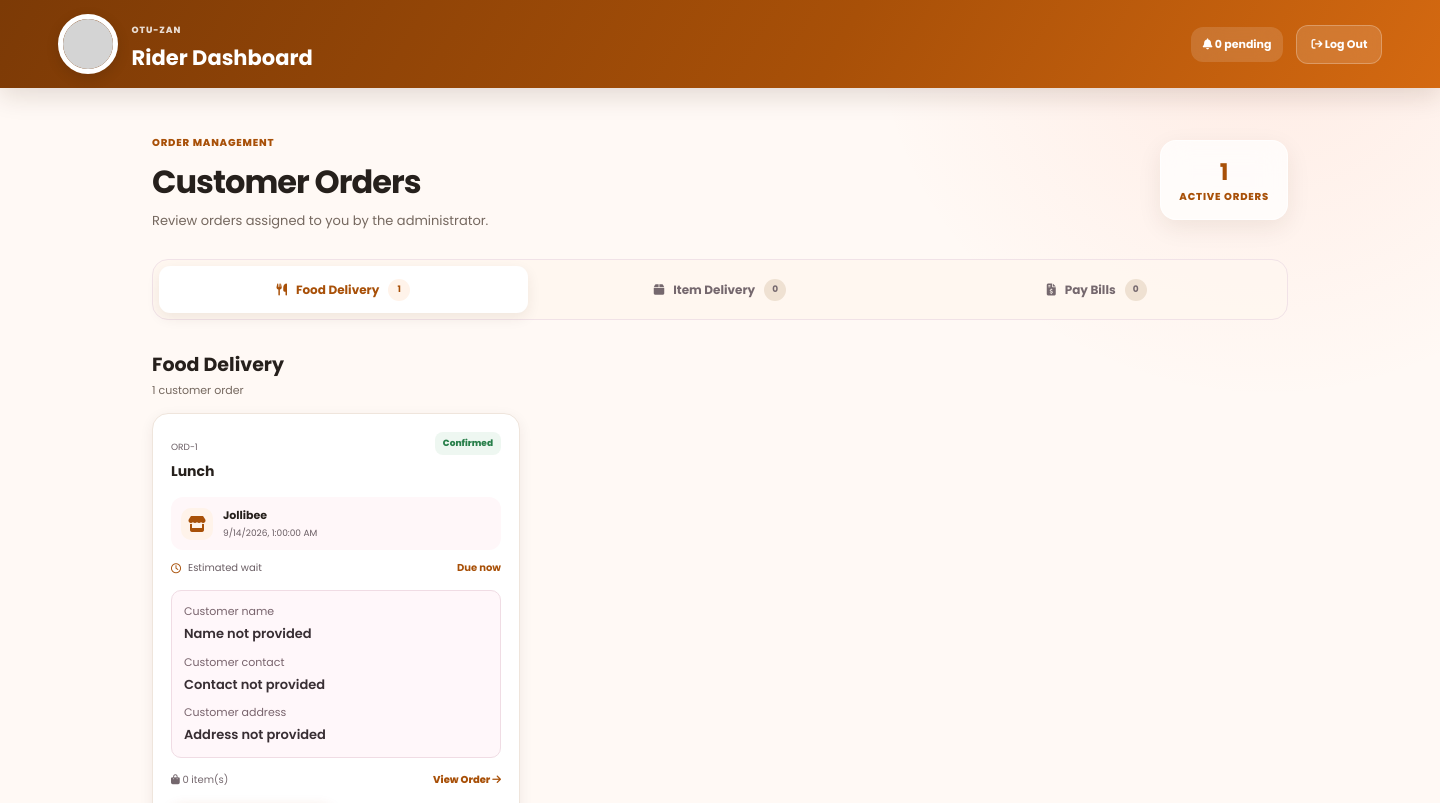
Test case: Escape closes the rider order-details window
The width and height of the screenshot is (1440, 803).
Click the button "View Order".
click(467, 780)  # box top-left (433, 772), bottom-right (501, 788)
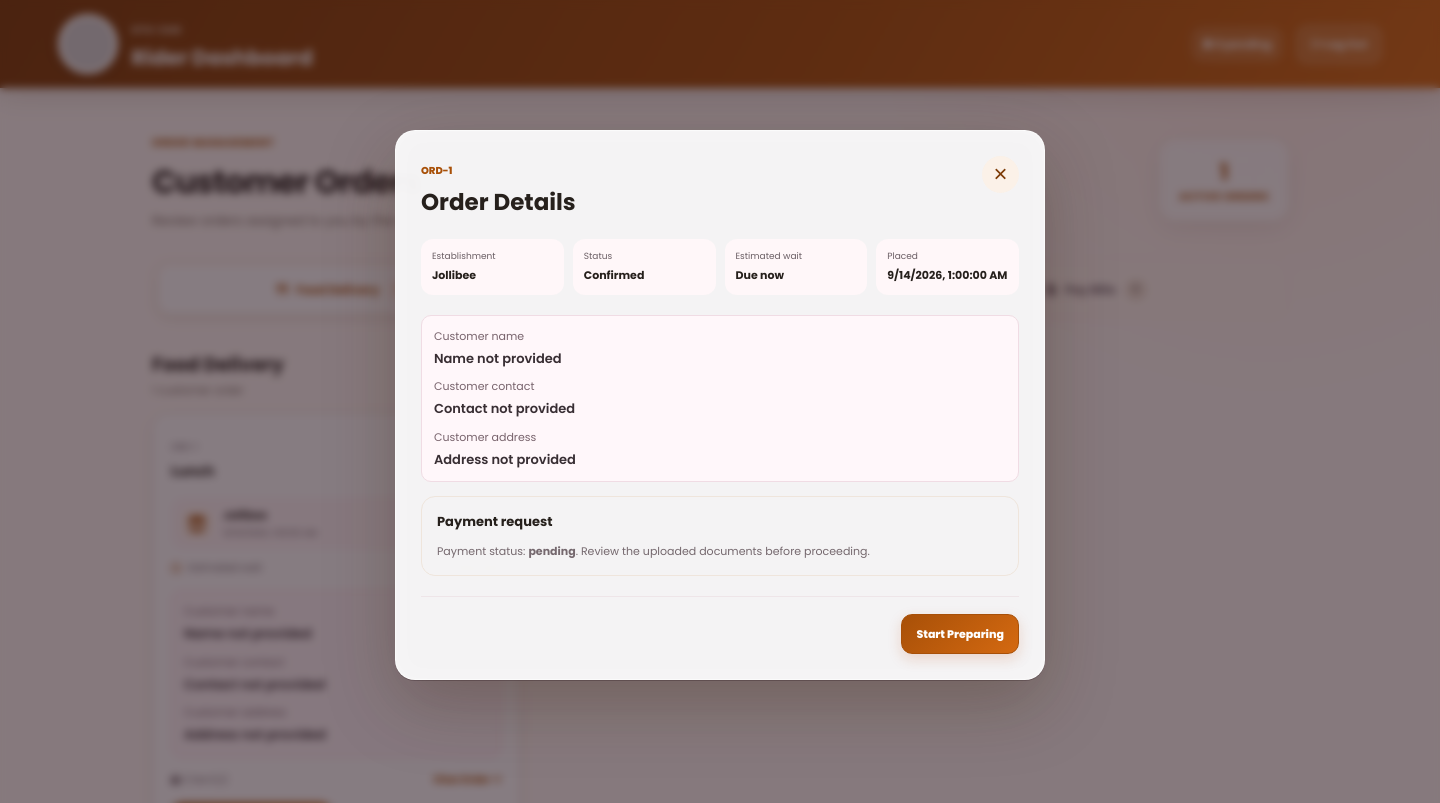
Check: the dialog is shown, box top-left (395, 130), bottom-right (1045, 680)
Press Escape
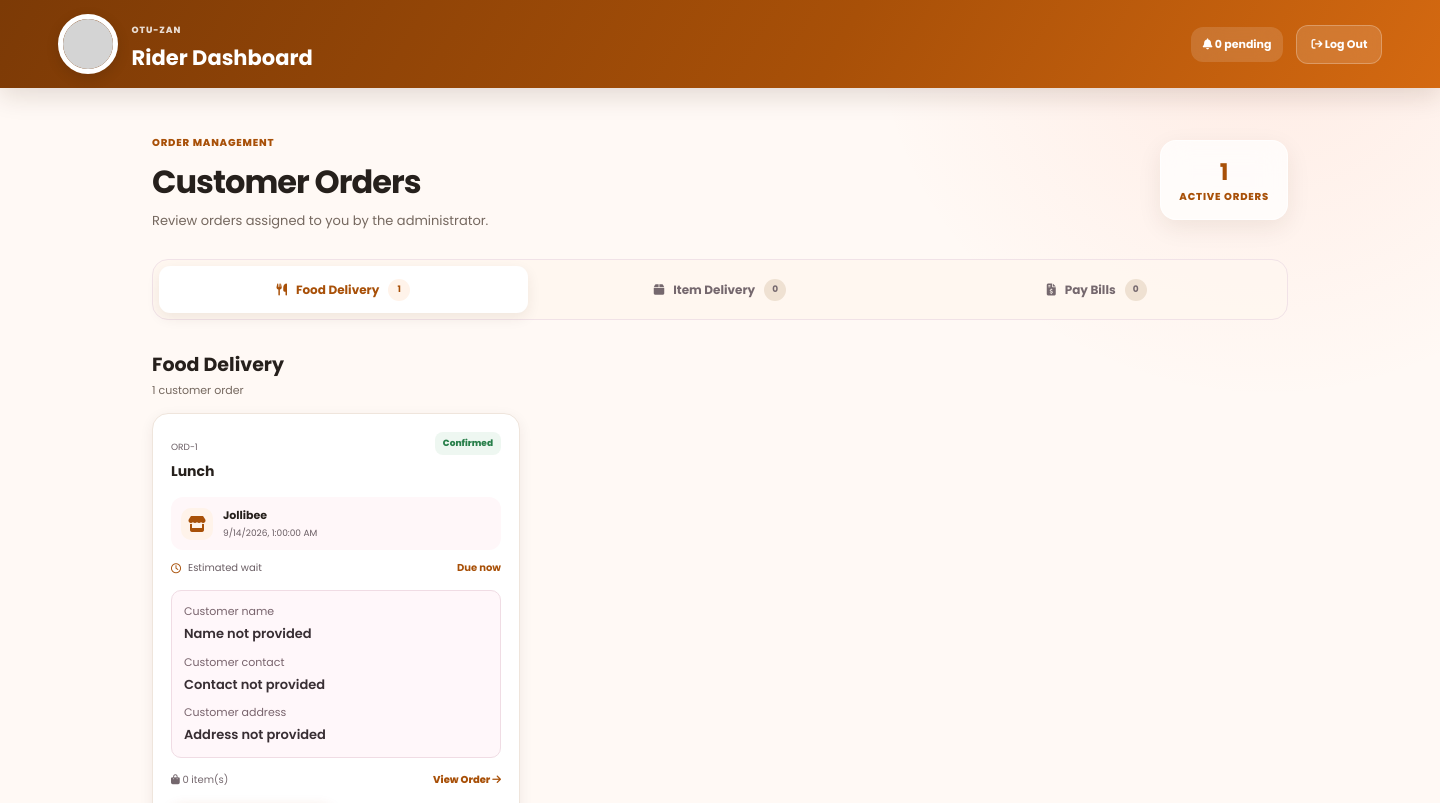
Check: the dialog is gone
